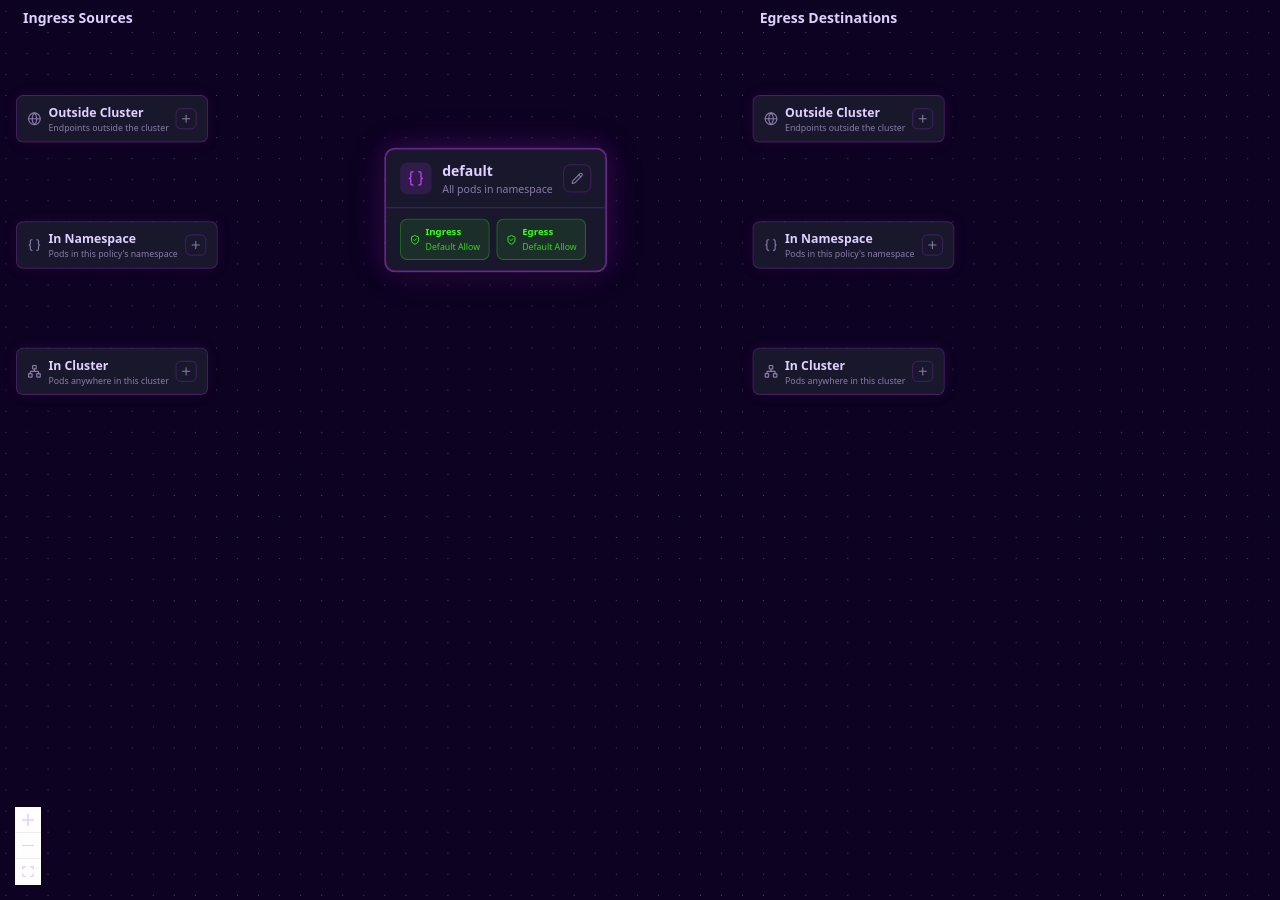
Test case: baseline badges › flips a direction from allow-all to deny-all on click
Click the button titled "Ingress: click to deny everything" at coordinates (445, 239), box x1=400 y1=219 x2=490 y2=260
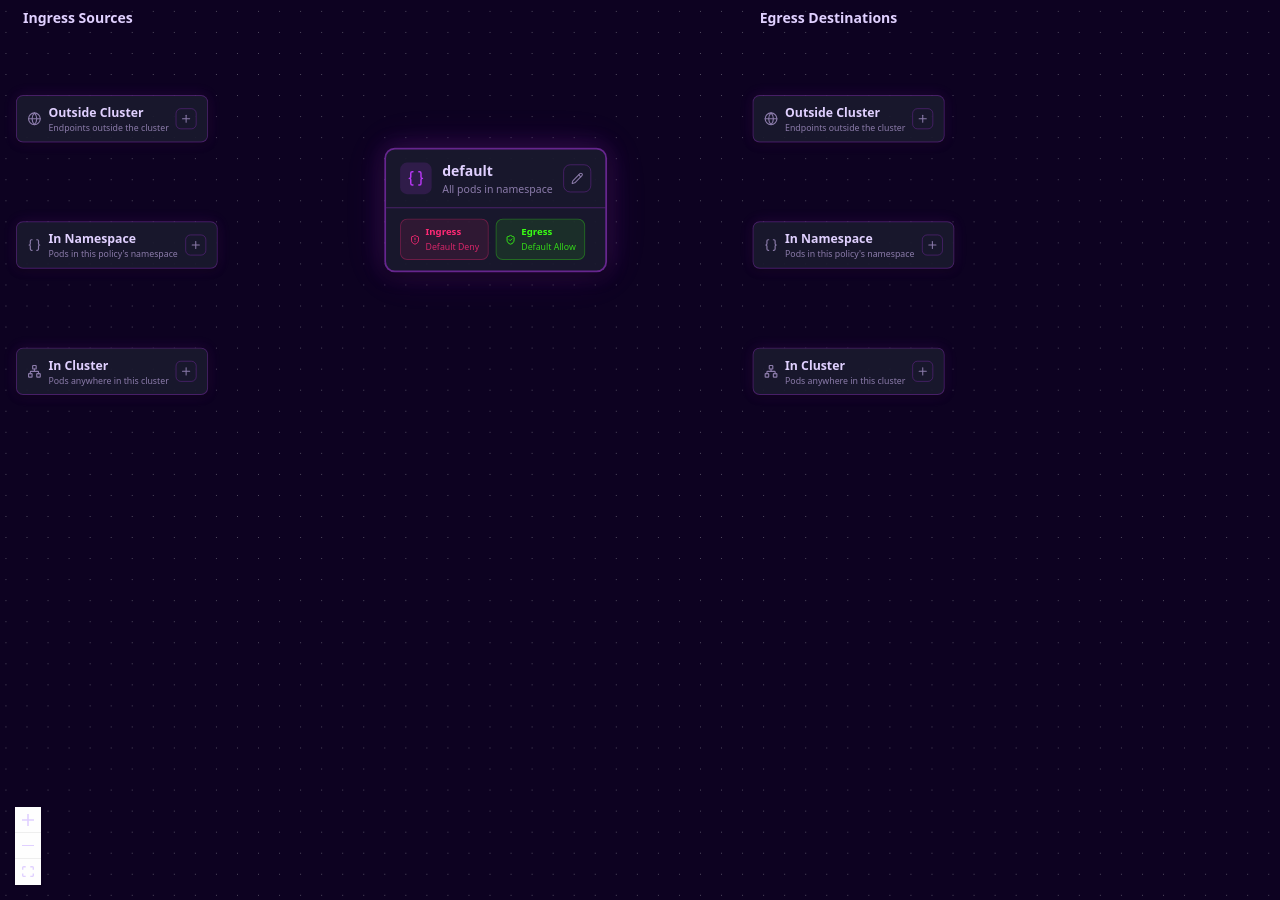
Result: the button titled "Ingress: click to allow all" is shown at x1=400 y1=219 x2=489 y2=260
Result: the text "Default Deny" is shown at x1=426 y1=240 x2=479 y2=252
